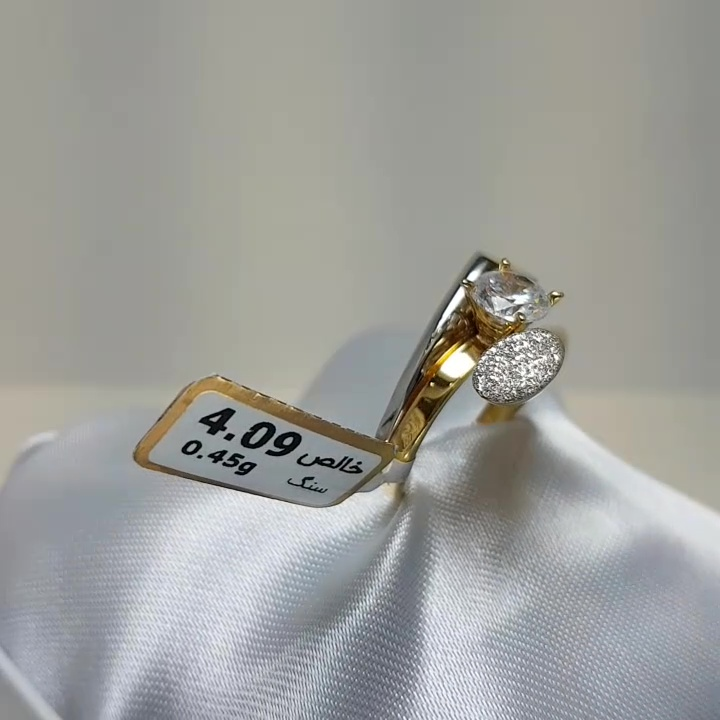Ring 7: (358, 230, 607, 507)
